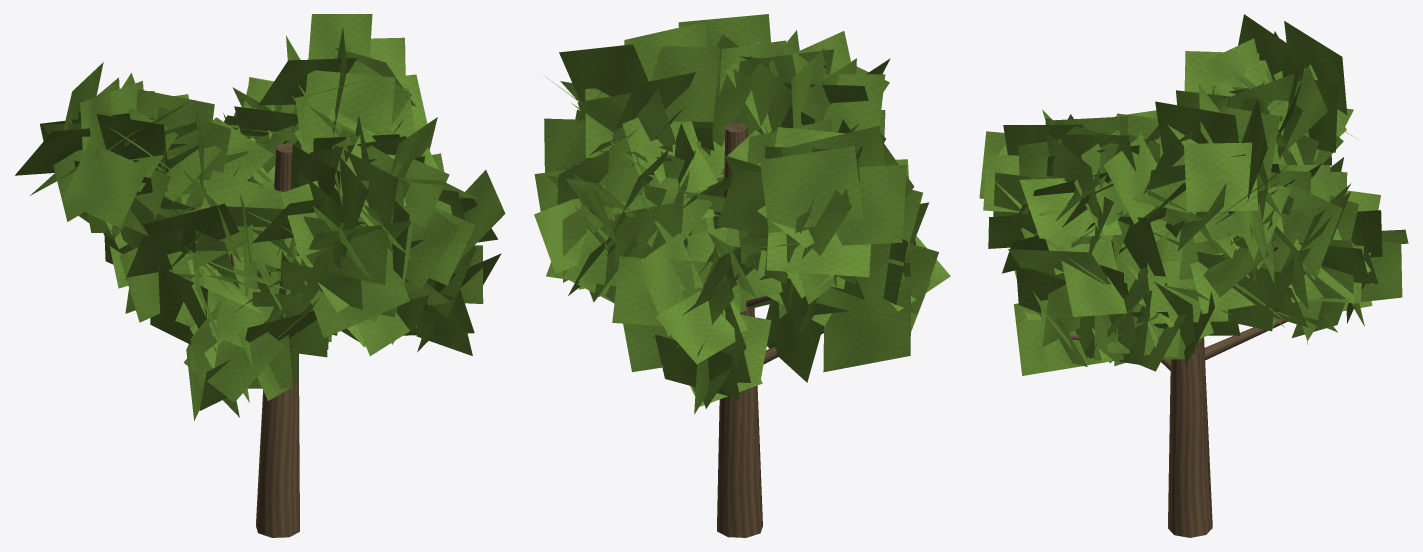
3 views of the same model, side by side, from view 1: azimuth 30°, elevation 25°; view 2: azimuth 150°, elevation 25°; view 3: azimuth 270°, elevation 25° (orthographic). The views are drawn at different scales.
Parts seen in each view (by area): view 1: oak-leaf, oak-bark; view 2: oak-leaf, oak-bark; view 3: oak-leaf, oak-bark.
Boxes of the visible parts, left/top/right/bottom form: oak-leaf: left=15, top=14, right=505, bottom=420; oak-bark: left=230, top=143, right=347, bottom=537; oak-leaf: left=534, top=14, right=950, bottom=414; oak-bark: left=590, top=123, right=823, bottom=537; oak-leaf: left=979, top=14, right=1408, bottom=375; oak-bark: left=1069, top=211, right=1287, bottom=537.
Bounding box in the file's own units: 7.85 × 9.57 × 8.02.
2 materials, 2 textured.
